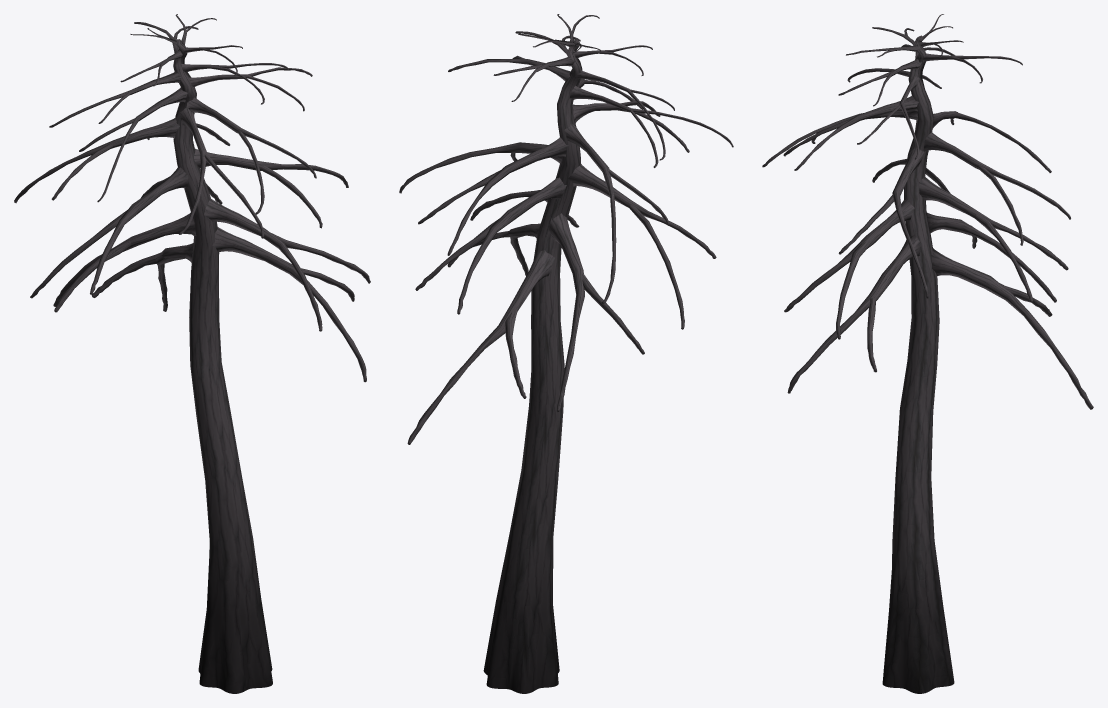
The model's file is DeadTree_3.gltf.
3 views of the same model, side by side, from view 1: azimuth 30°, elevation 25°; view 2: azimuth 150°, elevation 25°; view 3: azimuth 270°, elevation 25° (orthographic). The views are drawn at different scales.
Parts seen in each view (by area): view 1: DeadTree_3; view 2: DeadTree_3; view 3: DeadTree_3.
Boxes of the visible parts, x1,y1,x2,y2 form: DeadTree_3: (14, 14, 370, 693); DeadTree_3: (399, 14, 733, 693); DeadTree_3: (762, 14, 1093, 693).
Bounding box in the file's own units: 6.39 × 13.28 × 6.43.
Materials: 1 (1 with a texture image).
